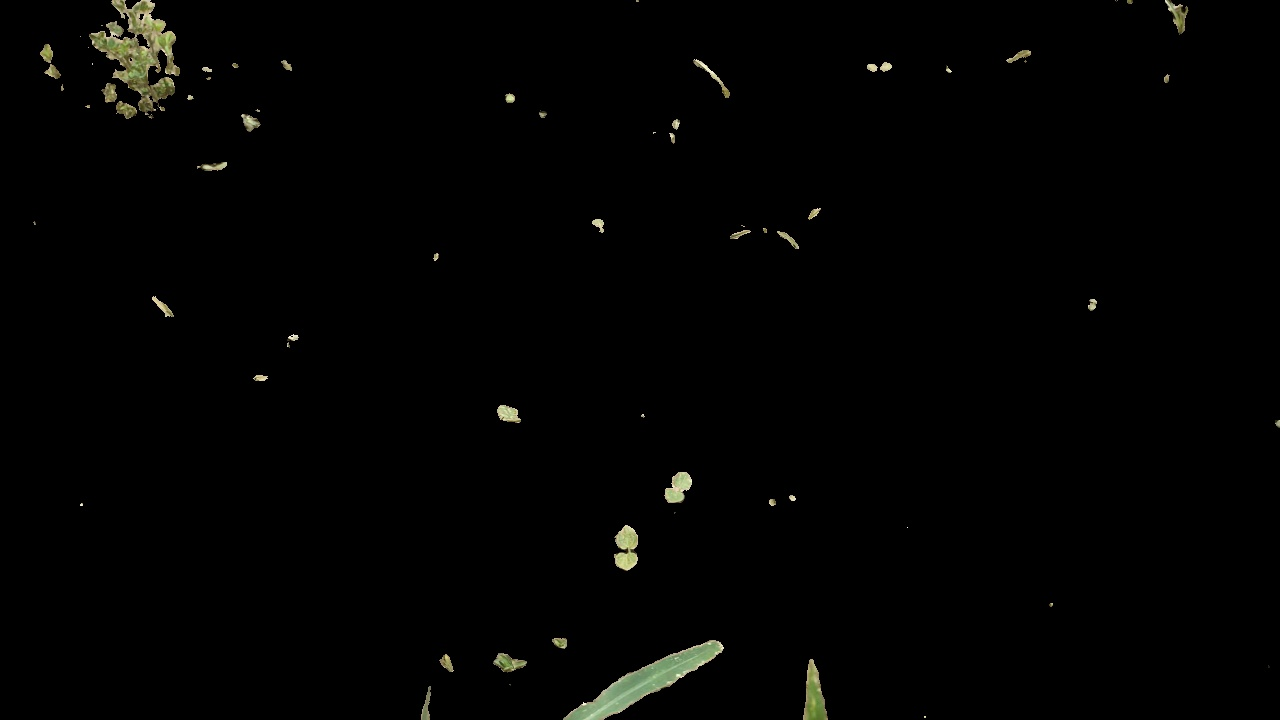crop: (412, 622, 732, 720), (793, 642, 835, 720)
weed: (22, 5, 222, 128), (612, 521, 655, 574), (492, 644, 531, 672), (666, 469, 692, 507), (866, 51, 893, 79), (499, 402, 526, 427)
